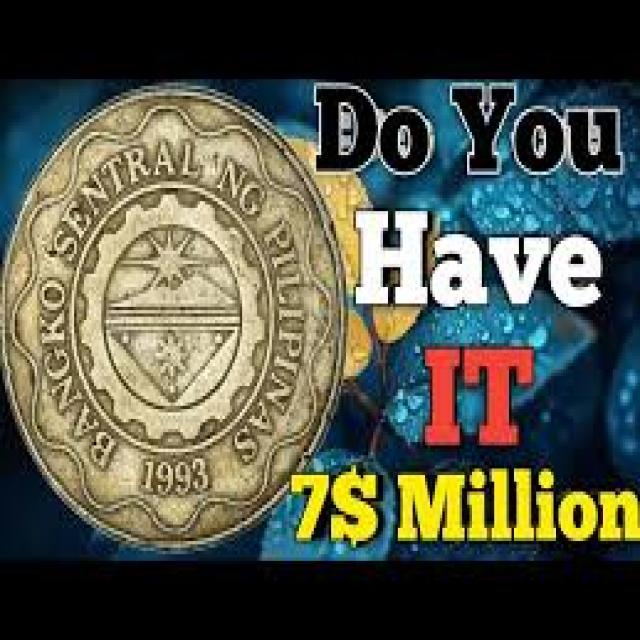5 peso-old: (2, 80, 350, 555)
